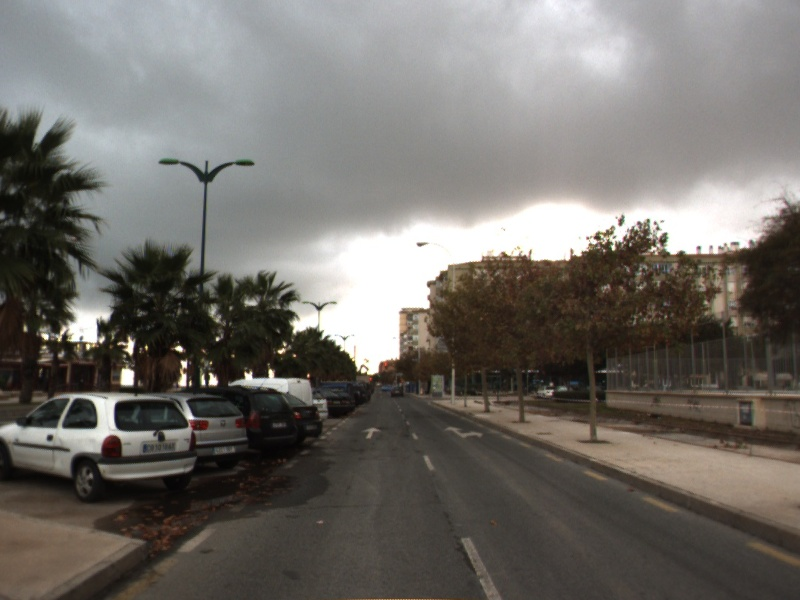STRAIGHT: (360, 425, 384, 440)
STRAIGHT_RIGHT: (442, 425, 486, 440)
